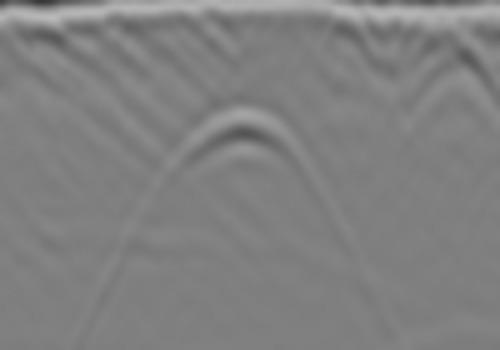hyperbola: (152, 97, 337, 211)
